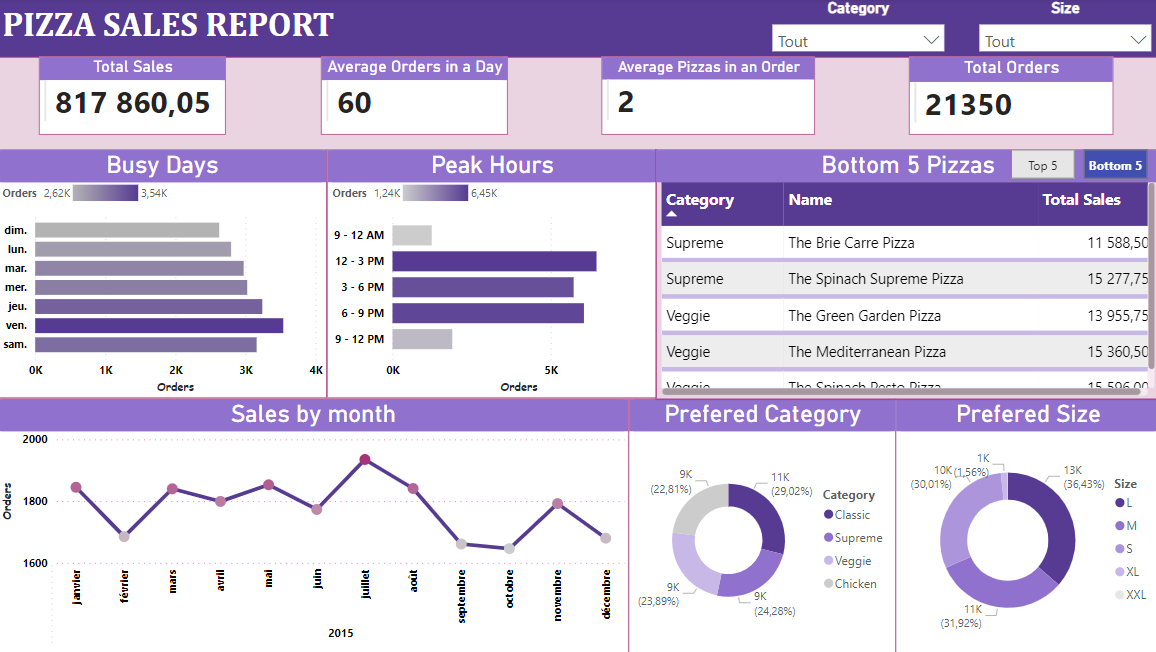

The dashboard page shown, as its layout file describes it:
{"tool":"powerbi","page":{"name":"Page 1","canvas":[1280,720],"ordinal":0},"visuals":[{"type":"textbox","box":[0,0,1279.5,65.2],"z":0},{"type":"barChart","title":"Peak Hours","fields":{"Category":["Orders.Time Slot"],"Y":["All Measures.Orders"]},"box":[362.4,166.7,362.4,273.4],"z":1000},{"type":"barChart","title":"Busy Days","fields":{"Y":["All Measures.Orders"],"Category":["Date Table.Day"]},"box":[0,166.7,362.4,273.4],"z":2000},{"type":"lineChart","title":"Sales by month","fields":{"Y":["All Measures.Orders"],"Category":["Date Table.Year","Date Table.Month Name"]},"box":[0,440.3,694.6,279.7],"z":3000},{"type":"donutChart","title":"Prefered Category","fields":{"Y":["All Measures.Orders"],"Category":["Pizza Types.Category"]},"box":[694.6,440.3,294,279.7],"z":4000},{"type":"donutChart","title":"Prefered Size","fields":{"Y":["All Measures.Orders"],"Category":["Pizzas.Size"]},"box":[988.6,440.3,290.9,279.7],"z":5000},{"type":"tableEx","title":"Top 5 Pizzas","fields":{"Values":["Pizza Types.Category","Pizza Types.Name","All Measures.Total Sales"]},"box":[724.9,166.7,555,275.1],"z":6000},{"type":"multiRowCard","title":"Total Sales","fields":{"Values":["All Measures.Total Sales"]},"box":[46.9,64.7,205.5,85.8],"z":7000},{"type":"multiRowCard","title":"Average Orders in a Day","fields":{"Values":["All Measures.Average orders/day"]},"box":[356,64.7,205.5,85.8],"z":8000},{"type":"multiRowCard","title":"Average Pizzas in an Order","fields":{"Values":["All Measures.Average Pizza/Order"]},"box":[665,64.7,234.6,85.8],"z":9000},{"type":"multiRowCard","title":"Total Orders","fields":{"Values":["All Measures.Orders"]},"box":[1003.1,64.7,224.9,85.8],"z":10000},{"type":"slicer","title":"Size ","fields":{"Values":["Pizzas.Size"]},"box":[1071.1,0,208.9,58.5],"z":13000},{"type":"slicer","title":"Category","fields":{"Values":["Pizza Types.Category"]},"box":[842.2,0,208.9,58.5],"z":14000},{"type":"bookmarkNavigator","box":[1115.1,166.6,150.1,33],"z":14001}]}

Visuals, with their boxes in screenshot pixels (x1, y1, x2, y2), scaled from the page's 1280x720 canvas onto the 1156x652 screenshot:
textbox: crop(0, 0, 1155, 59)
"Peak Hours" barChart: crop(327, 151, 655, 399)
"Busy Days" barChart: crop(0, 151, 327, 399)
"Sales by month" lineChart: crop(0, 399, 627, 651)
"Prefered Category" donutChart: crop(627, 399, 893, 651)
"Prefered Size" donutChart: crop(893, 399, 1155, 651)
"Top 5 Pizzas" tableEx: crop(655, 151, 1155, 400)
"Total Sales" multiRowCard: crop(42, 59, 228, 136)
"Average Orders in a Day" multiRowCard: crop(322, 59, 507, 136)
"Average Pizzas in an Order" multiRowCard: crop(601, 59, 812, 136)
"Total Orders" multiRowCard: crop(906, 59, 1109, 136)
"Size " slicer: crop(967, 0, 1155, 53)
"Category" slicer: crop(761, 0, 949, 53)
bookmarkNavigator: crop(1007, 151, 1143, 181)
